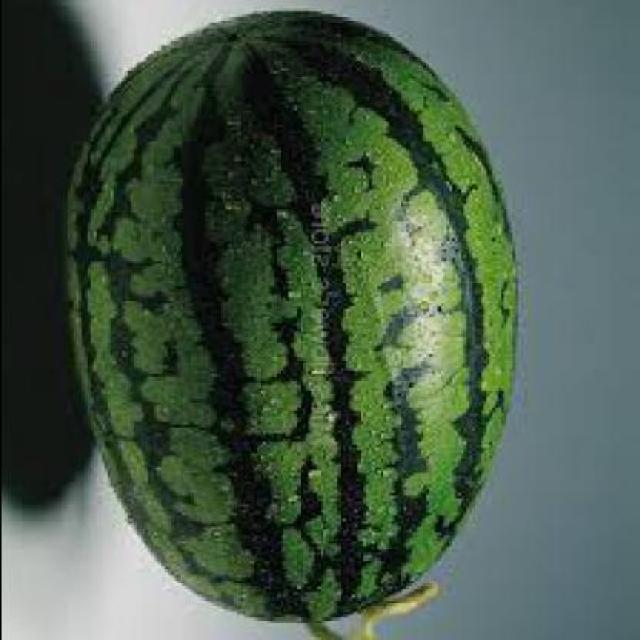BIODEGRADABLE: (61, 14, 519, 632)
